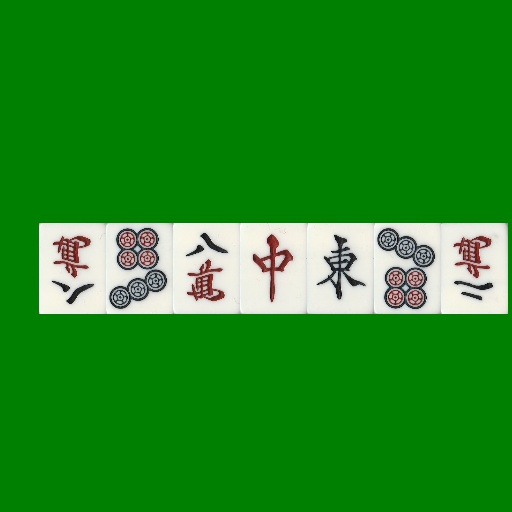2m: (441, 223, 508, 314)
7p: (106, 223, 173, 314), (374, 223, 441, 314)
8m: (39, 223, 106, 314), (173, 223, 240, 314)
east: (307, 223, 374, 314)
tyun: (240, 223, 307, 314)
